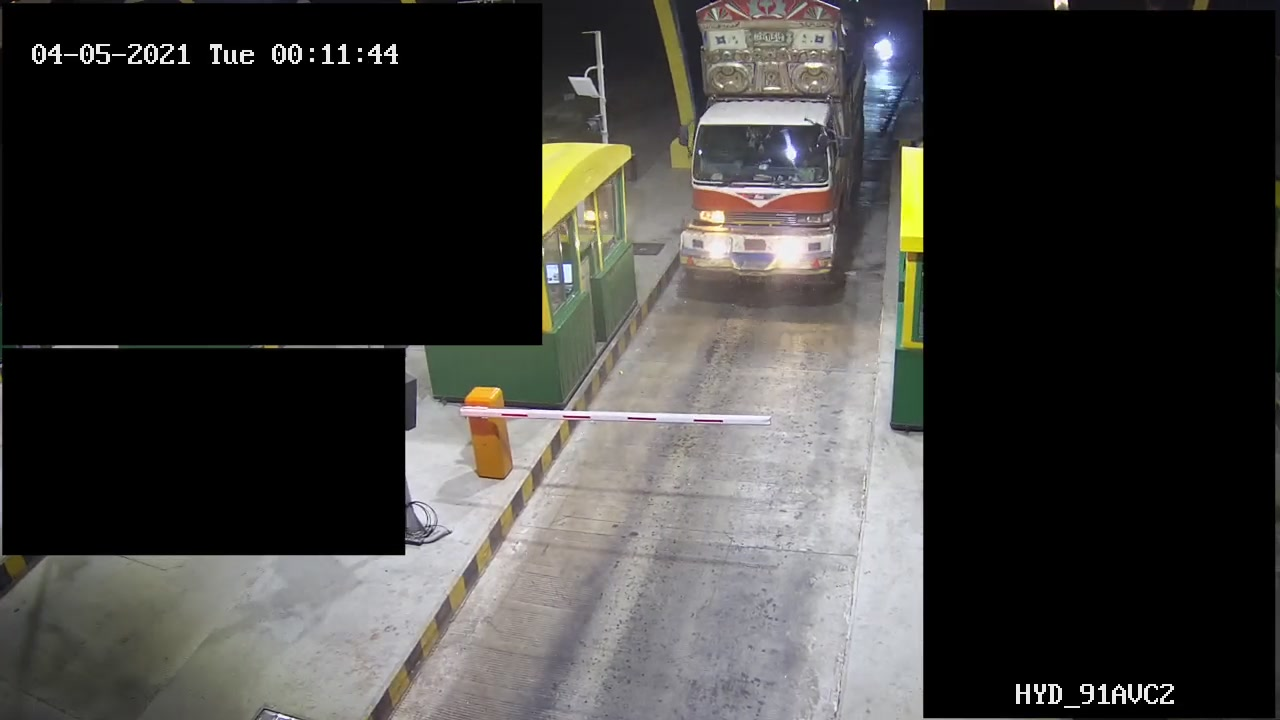F5: (667, 1, 875, 296)
